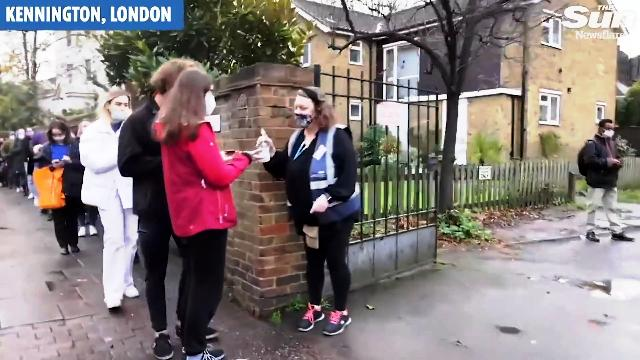berdiri: (146, 56, 244, 360), (260, 79, 370, 339), (84, 82, 158, 312)
